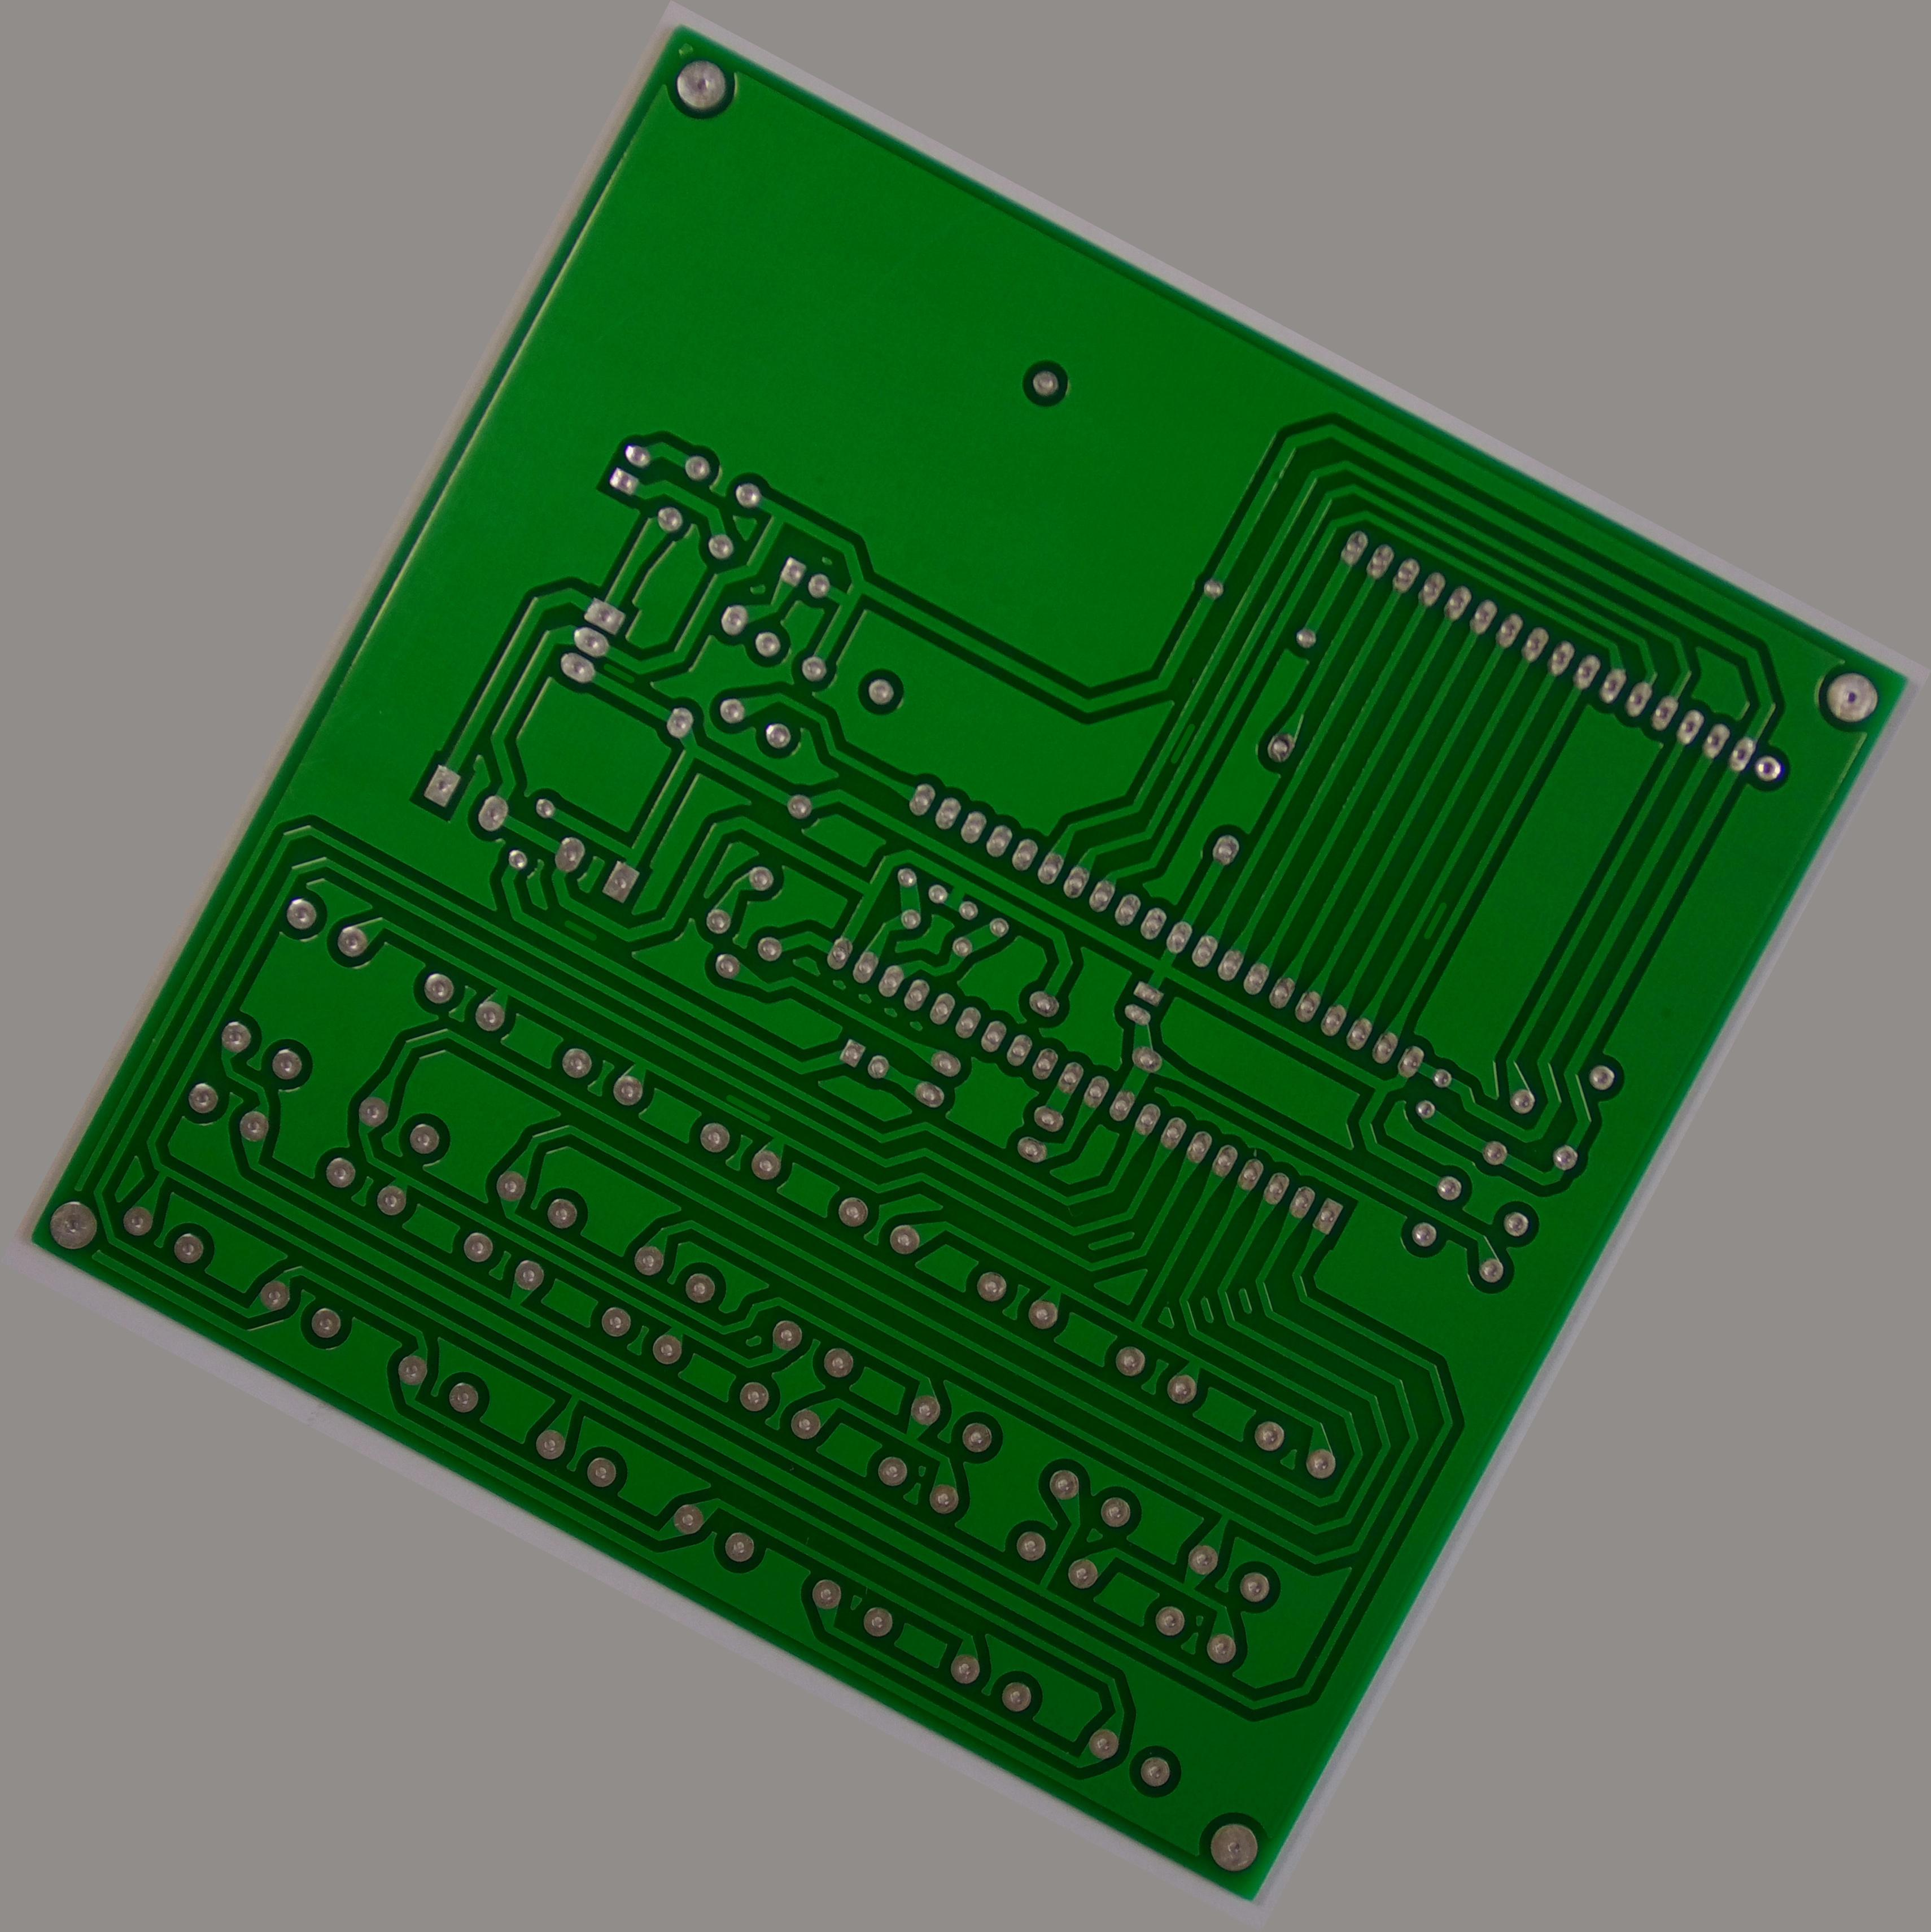spurious_copper: (1155, 711, 1210, 777), (1408, 886, 1461, 952), (713, 1081, 780, 1132), (585, 642, 642, 695), (552, 908, 608, 955)
